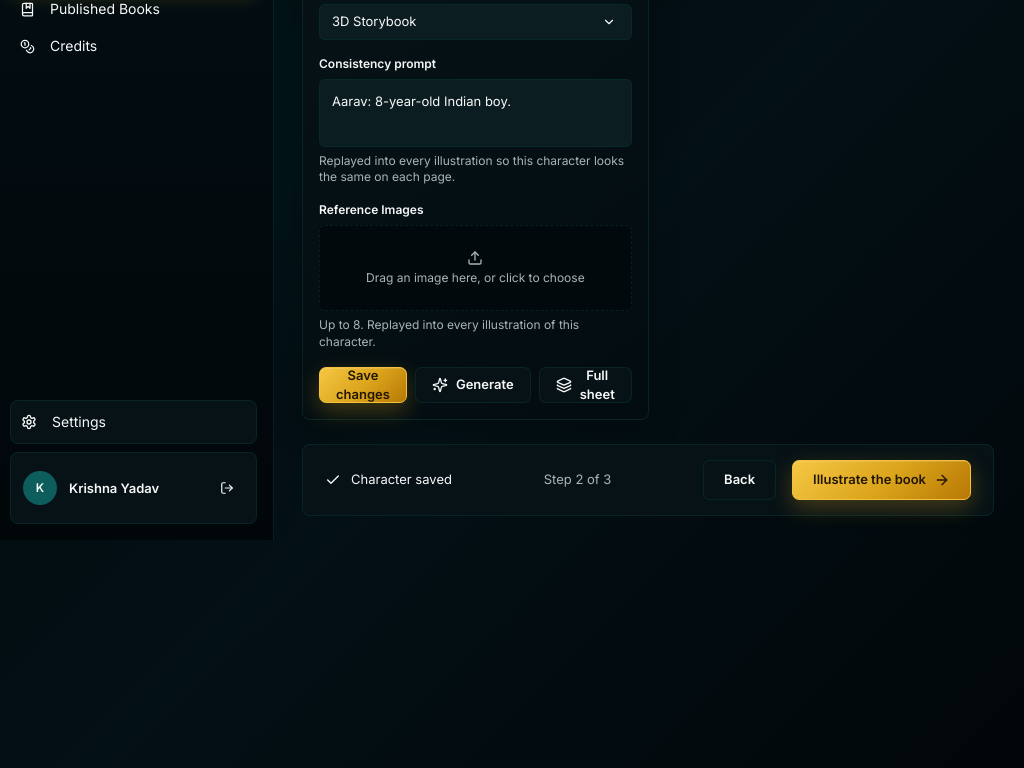
Test: illustrating a character › reports progress and offers a cancel while it runs
(page scrolled)
Click the button "Generate" at x=473, y=385, box [415,367,531,403]
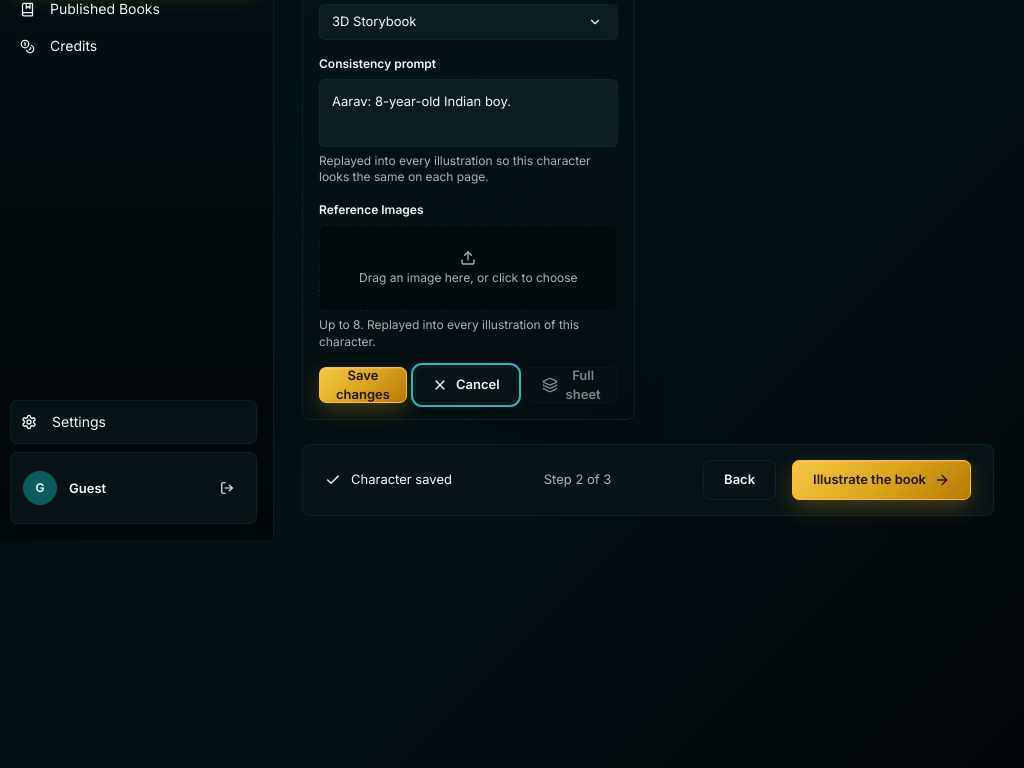
Now the button "Cancel" is shown, box [415,367,517,403]
